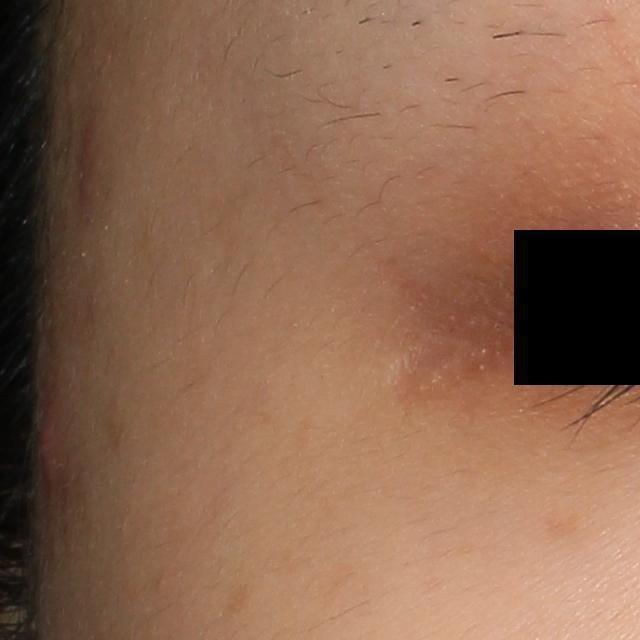melasma: (534, 502, 596, 545), (215, 577, 262, 628)
papule: (31, 412, 58, 470)
